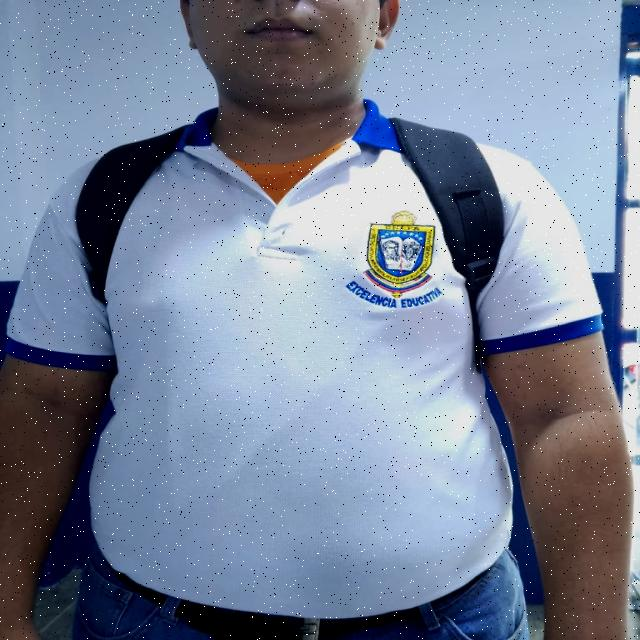uniforme_superior: (0, 97, 605, 620)
